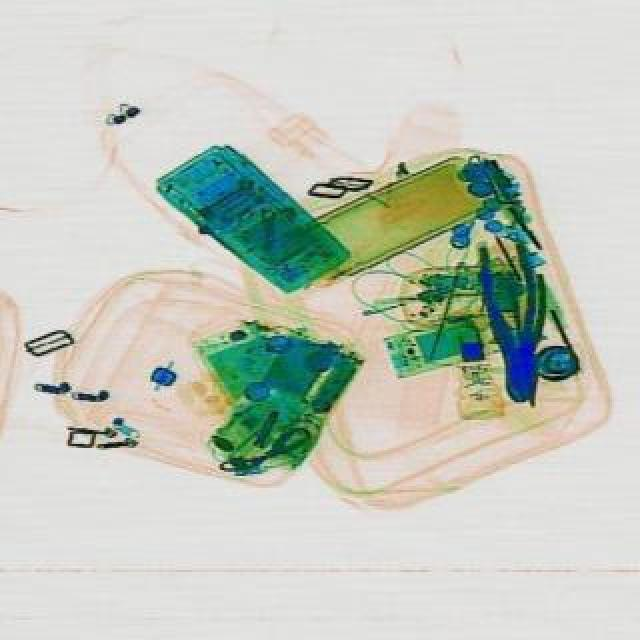wrench: (472, 240, 554, 412), (474, 272, 554, 408)
